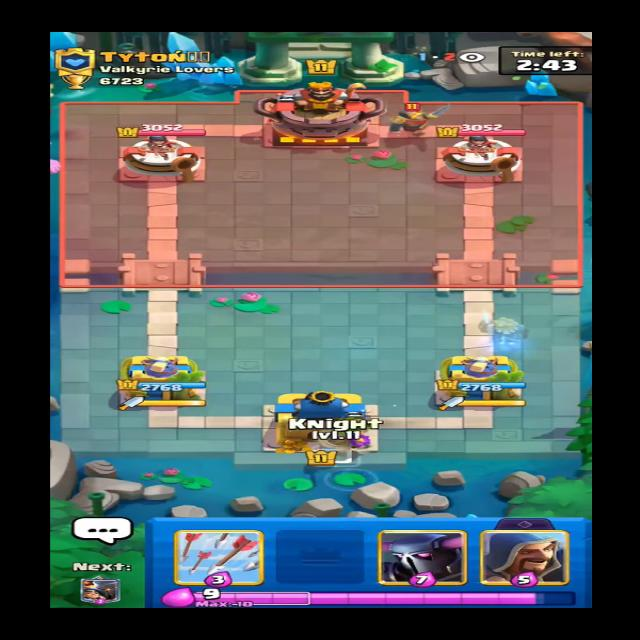knight: (374, 102, 458, 136)
